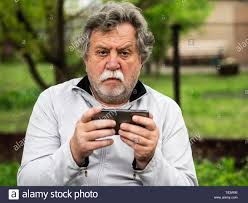white_male: (82, 27, 141, 95)
